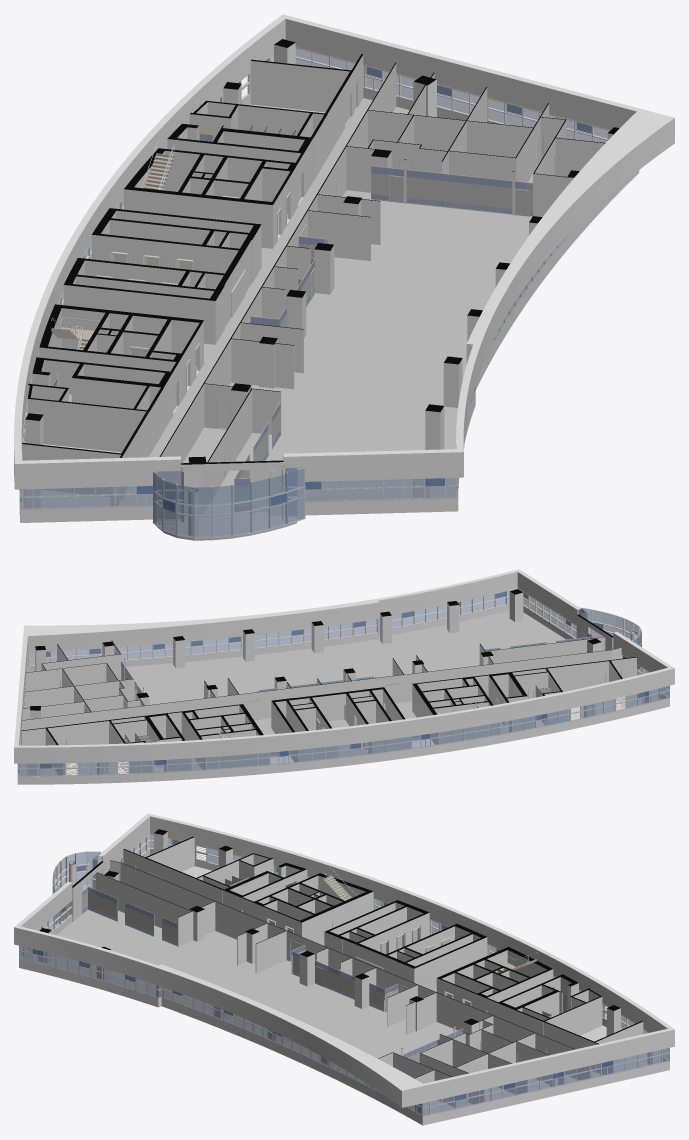
3 views of the same model, one above another, from view 1: azimuth 30°, elevation 25°; view 2: azimuth 150°, elevation 25°; view 3: azimuth 270°, elevation 25° (orthographic). The views are drawn at different scales.
Parts seen in each view (by area): view 1: A1-11F-Wall1, A1-11F-Floor, A1-11F-Dry Wall, A1-11F-In Dry Wall, A1-11F-Glass1, A1-11F-Column, A1-11F-Frame, A1-11F-Glass Wall, A1-11F-Door, A1-11F-Glass2, A1-11F-Wall2, A1-11F-Stairs (+2 smaller); view 2: A1-11F-Wall1, A1-11F-In Dry Wall, A1-11F-Floor, A1-11F-Dry Wall, A1-11F-Glass1, A1-11F-Frame, A1-11F-Glass2, A1-11F-Column, A1-11F-Door, A1-11F-Glass3, A1-11F-Glass Wall, A1-11F-Vent (+1 smaller); view 3: A1-11F-Wall1, A1-11F-Floor, A1-11F-In Dry Wall, A1-11F-Dry Wall, A1-11F-Glass1, A1-11F-Column, A1-11F-Frame, A1-11F-Glass Wall, A1-11F-Door, A1-11F-Glass2, A1-11F-Glass3, A1-11F-Elevator (+2 smaller).
Part boxes in pixels (left/top/right/bottom): A1-11F-Wall1: left=21, top=54, right=605, bottom=514; A1-11F-Floor: left=22, top=98, right=536, bottom=540; A1-11F-Dry Wall: left=14, top=14, right=674, bottom=489; A1-11F-In Dry Wall: left=19, top=17, right=639, bottom=522; A1-11F-Glass1: left=19, top=48, right=608, bottom=537; A1-11F-Column: left=24, top=39, right=619, bottom=535; A1-11F-Frame: left=19, top=47, right=610, bottom=538; A1-11F-Glass Wall: left=234, top=165, right=532, bottom=511; A1-11F-Door: left=119, top=82, right=555, bottom=512; A1-11F-Glass2: left=62, top=96, right=304, bottom=505; A1-11F-Wall2: left=181, top=460, right=283, bottom=515; A1-11F-Stairs: left=51, top=141, right=176, bottom=350; A1-11F-Wall1: left=21, top=637, right=636, bottom=774; A1-11F-In Dry Wall: left=17, top=571, right=669, bottom=784; A1-11F-Floor: left=20, top=610, right=658, bottom=775; A1-11F-Dry Wall: left=14, top=569, right=674, bottom=763; A1-11F-Glass1: left=17, top=588, right=669, bottom=776; A1-11F-Frame: left=17, top=588, right=669, bottom=776; A1-11F-Glass2: left=78, top=607, right=641, bottom=775; A1-11F-Column: left=27, top=589, right=657, bottom=775; A1-11F-Door: left=34, top=633, right=621, bottom=760; A1-11F-Glass3: left=40, top=591, right=648, bottom=768; A1-11F-Glass Wall: left=121, top=632, right=593, bottom=704; A1-11F-Vent: left=66, top=696, right=626, bottom=775; A1-11F-Wall1: left=96, top=836, right=643, bottom=1108; A1-11F-Floor: left=28, top=866, right=648, bottom=1113; A1-11F-In Dry Wall: left=19, top=815, right=669, bottom=1125; A1-11F-Dry Wall: left=14, top=813, right=674, bottom=1107; A1-11F-Glass1: left=19, top=834, right=669, bottom=1116; A1-11F-Column: left=38, top=829, right=660, bottom=1115; A1-11F-Frame: left=19, top=833, right=669, bottom=1116; A1-11F-Glass Wall: left=82, top=887, right=463, bottom=1062; A1-11F-Door: left=77, top=866, right=602, bottom=1104; A1-11F-Glass2: left=52, top=848, right=633, bottom=1028; A1-11F-Glass3: left=32, top=839, right=613, bottom=1100; A1-11F-Elevator: left=267, top=911, right=489, bottom=1005.
Size of the model in its own units: 71.25 by 5.2 by 71.71.
